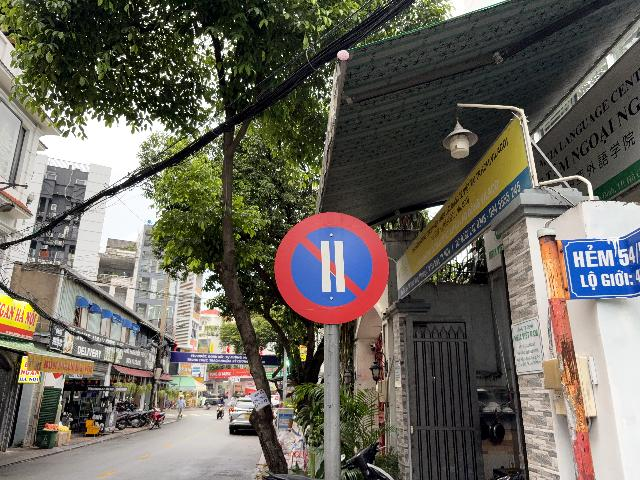cam-do-xe-ngay-chan: (275, 210, 390, 324)
